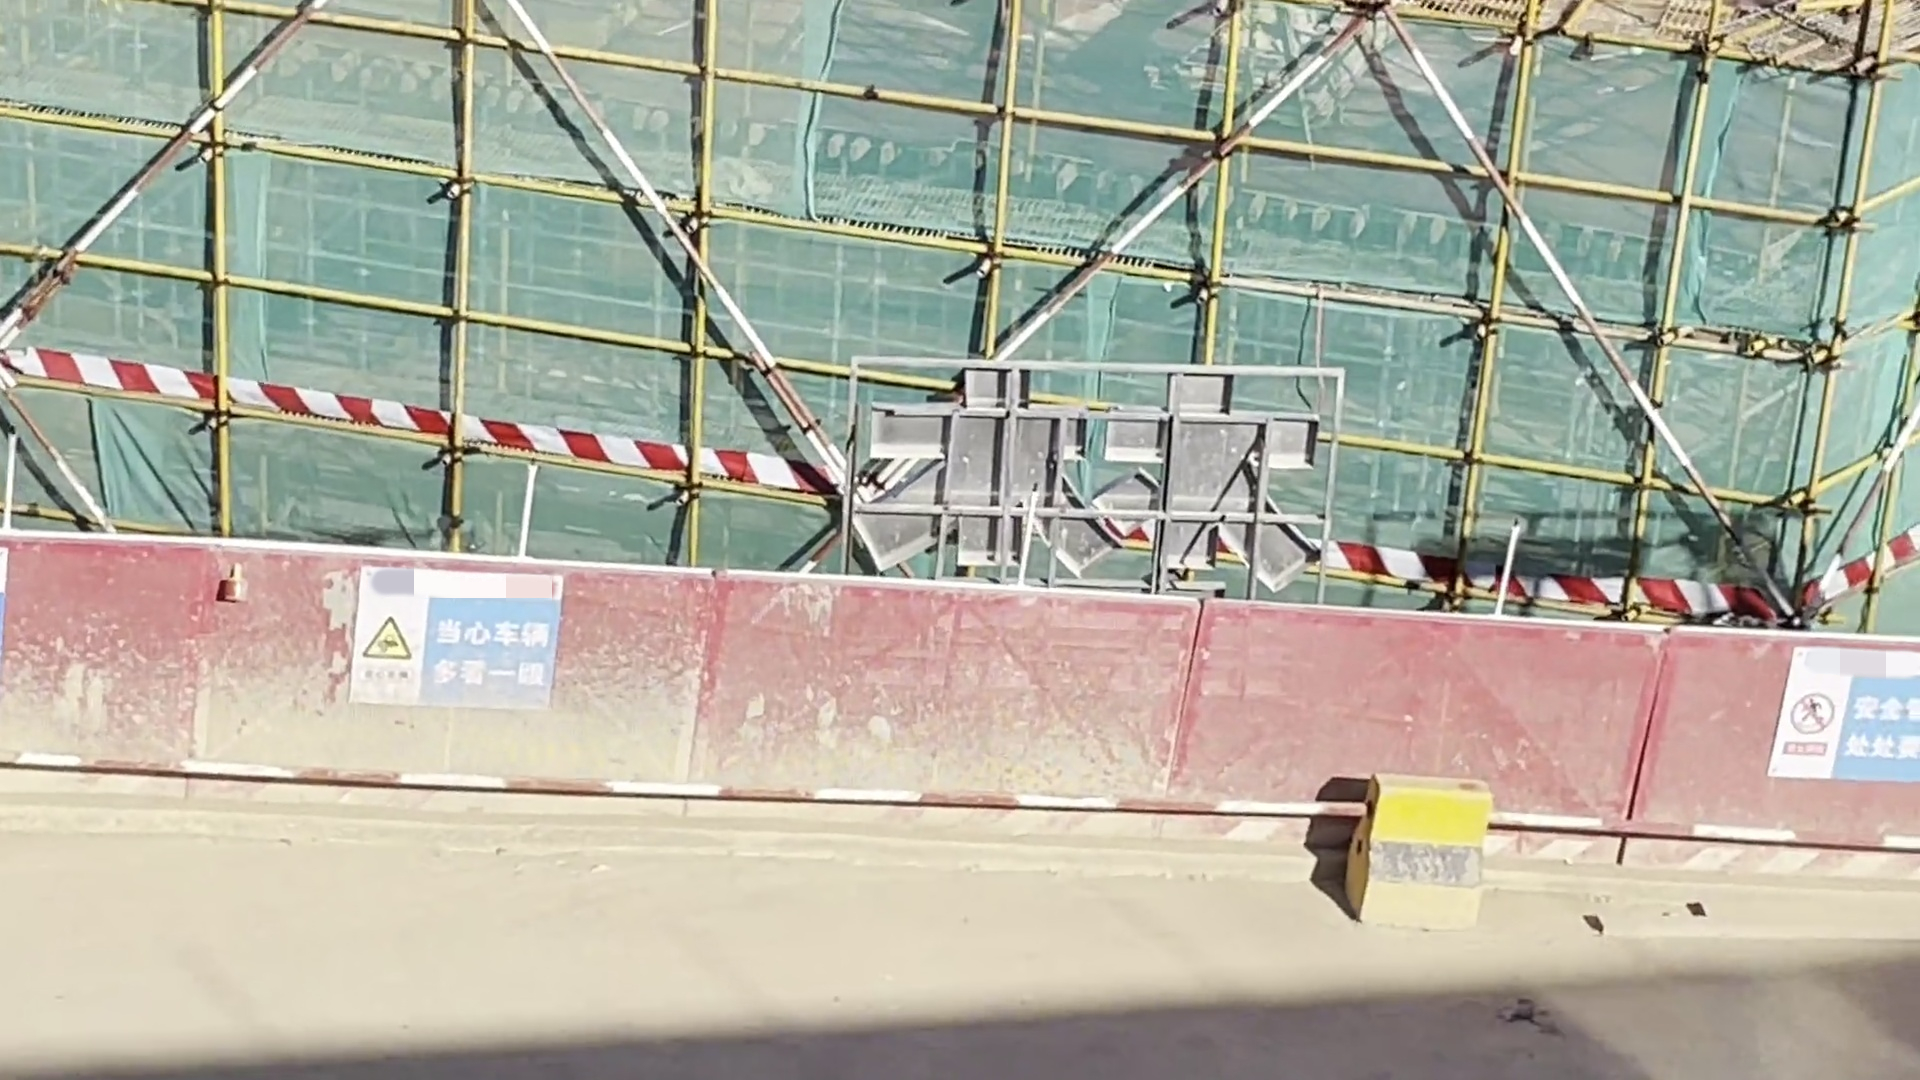fence: (9, 517, 1920, 861)
slogan: (361, 556, 576, 727), (1787, 640, 1920, 802)
